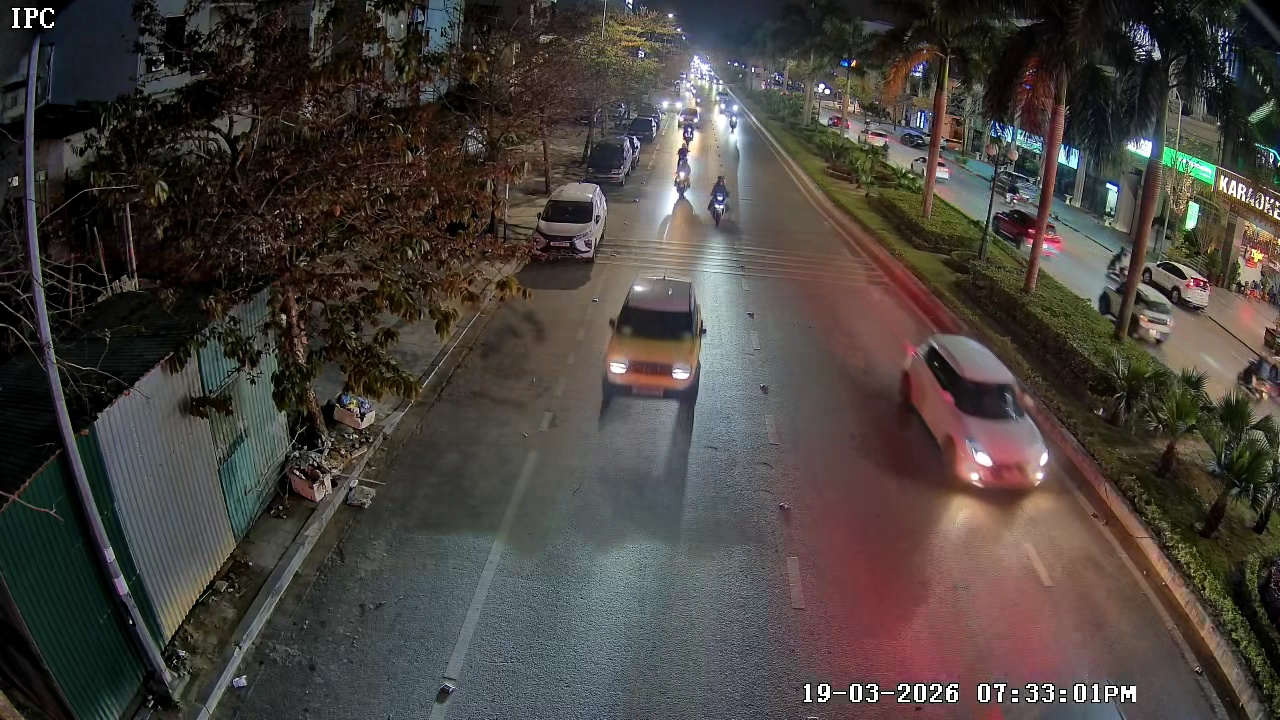car: (897, 331, 1049, 488), (598, 274, 708, 413), (532, 180, 610, 264), (582, 132, 637, 188)
motorbike: (706, 174, 733, 230), (673, 139, 695, 194), (682, 120, 697, 145), (730, 112, 739, 134)
